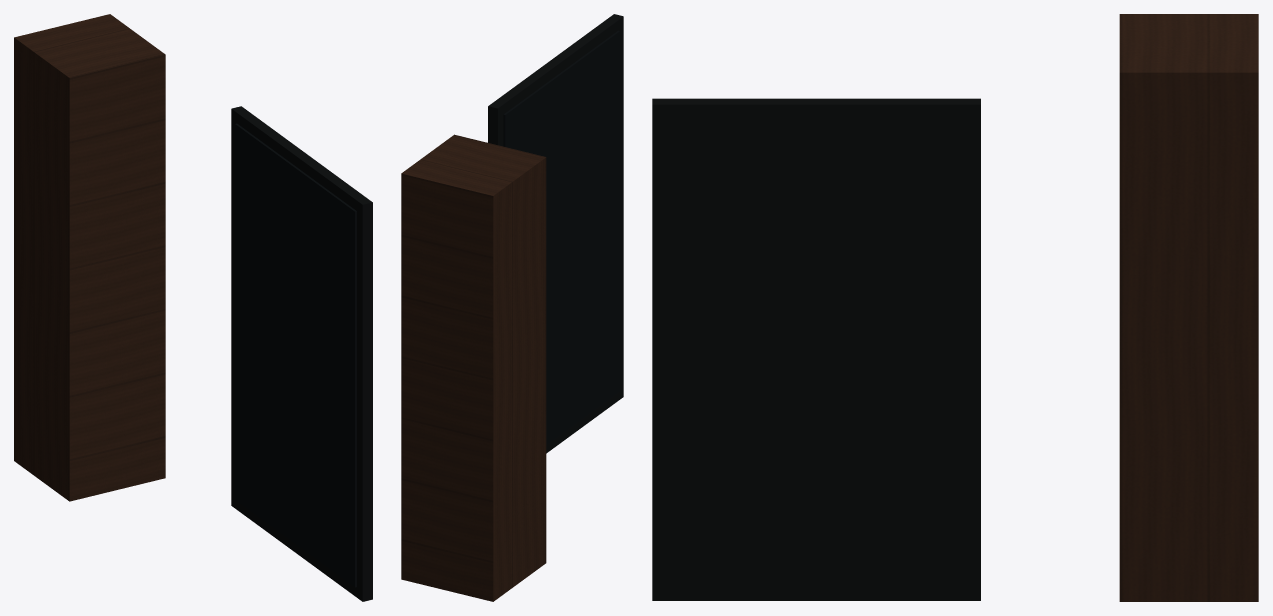
Rendered from media_console.obj.
3 views of the same model, side by side, from view 1: azimuth 30°, elevation 25°; view 2: azimuth 150°, elevation 25°; view 3: azimuth 270°, elevation 25° (orthographic). The views are drawn at different scales.
Parts seen in each view (by area): view 1: media_console_walnut, media_console_screen, media_console_frame; view 2: media_console_walnut, media_console_screen, media_console_frame; view 3: media_console_frame, media_console_walnut.
Part boxes in pixels (x1,y1,x2,y2): media_console_walnut: (14, 14, 165, 501); media_console_screen: (235, 123, 356, 587); media_console_frame: (231, 106, 372, 601); media_console_walnut: (401, 134, 546, 601); media_console_screen: (503, 30, 619, 444); media_console_frame: (488, 14, 623, 453); media_console_frame: (652, 98, 980, 600); media_console_walnut: (1119, 14, 1258, 601).
Size of the model in its own units: 23 by 80 by 83.
Materials: 3 (3 with a texture image).
